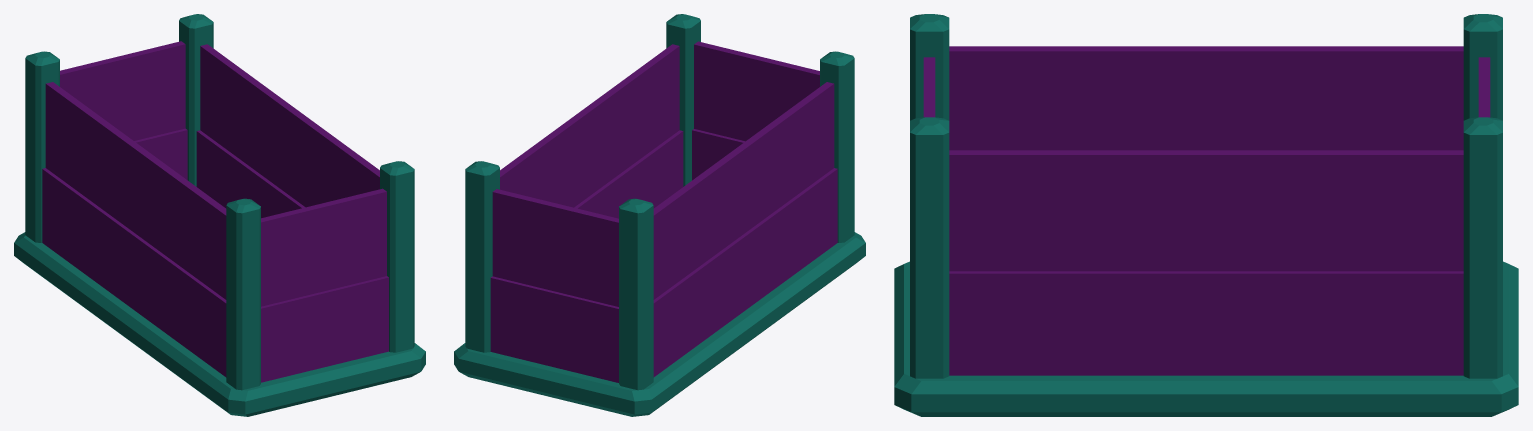
The picture shows the model from 3 angles, left to right: view 1: azimuth 30°, elevation 25°; view 2: azimuth 150°, elevation 25°; view 3: azimuth 270°, elevation 25°; orthographic projection. The views are drawn at different scales.
Visible parts, largest first — view 1: MESH_Box; view 2: MESH_Box; view 3: MESH_Box.
Part boxes in pixels (x1,y1,x2,y2): MESH_Box: (14,14,425,416); MESH_Box: (454,14,865,416); MESH_Box: (894,14,1518,416).
Bounding box in the file's own units: 0.4107 × 0.4109 × 0.8161.
